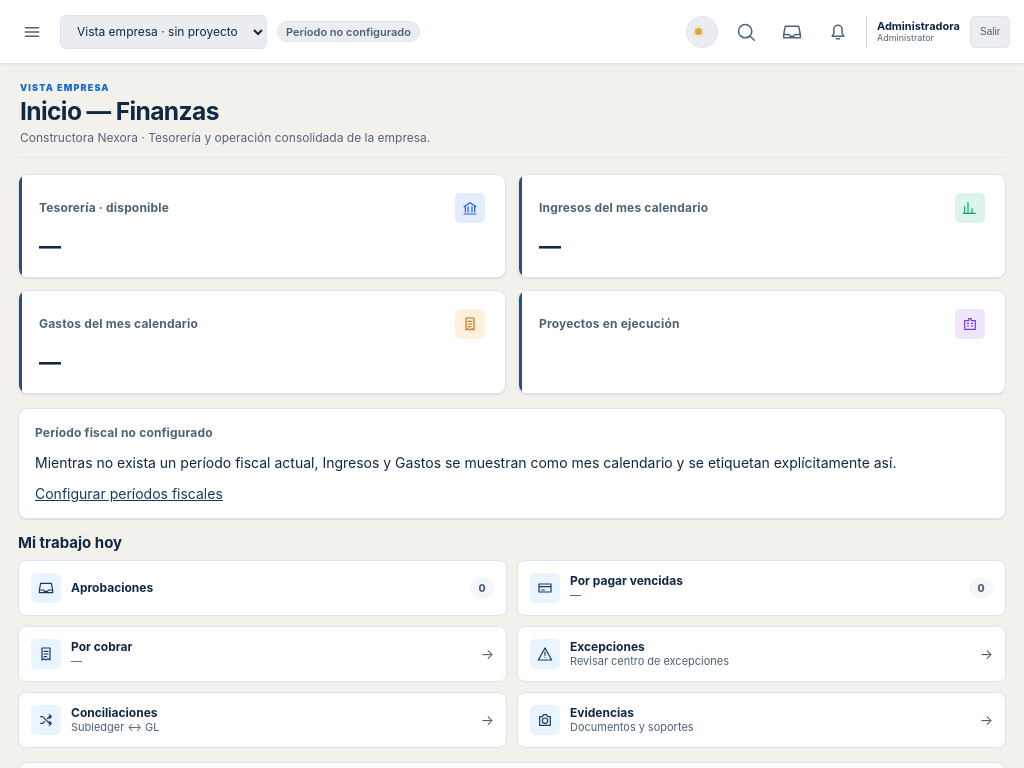
AppLayout shell › opens the mobile nav drawer from the topbar toggle
Expected: the heading "Inicio — Finanzas" is shown, x1=20 y1=96 x2=219 y2=126
Click the button named "abrir navegación": coordinates (32, 32) x1=14 y1=14 x2=50 y2=50
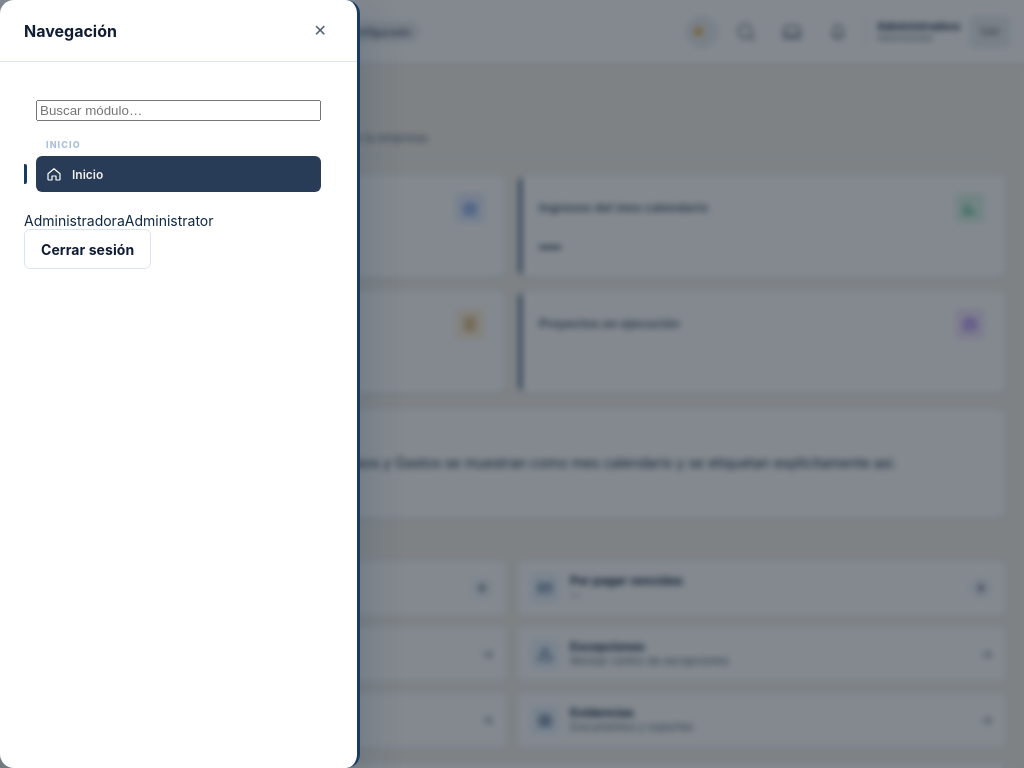
Expected: the dialog "Navegación" is shown, x1=0 y1=0 x2=360 y2=767
